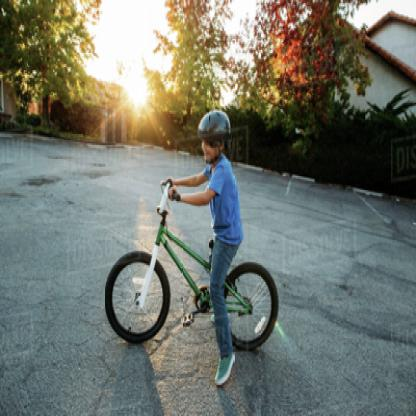With Helmet: (191, 108, 234, 166)
